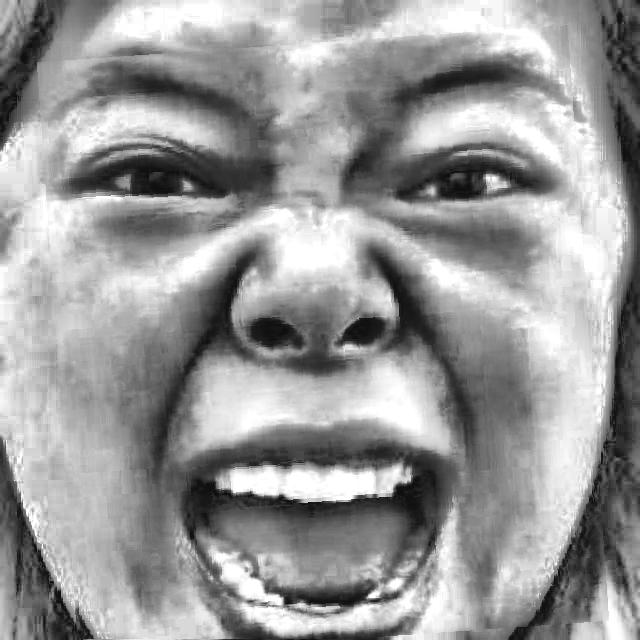angry: (46, 34, 599, 640)
